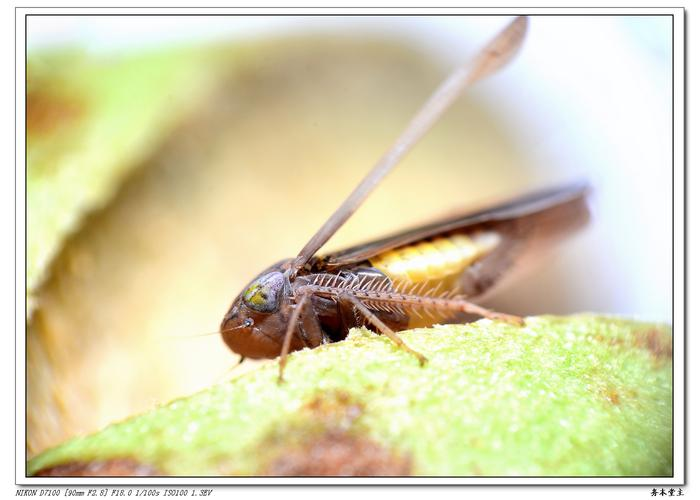Cicadellidae: (222, 179, 589, 359)
